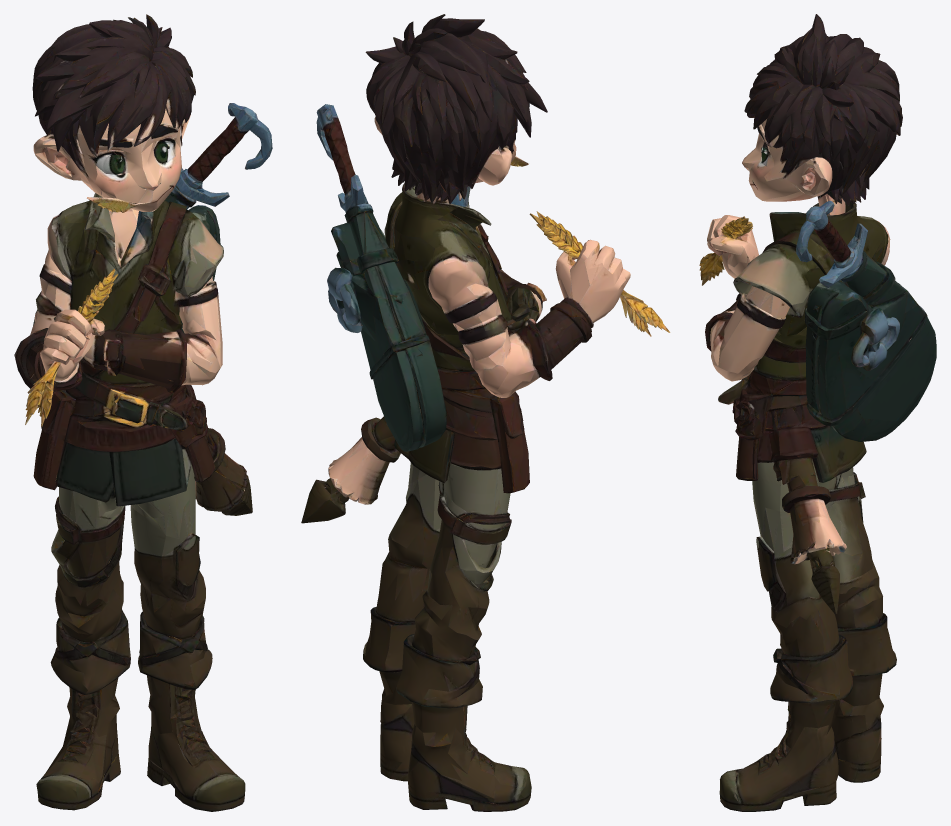
The model's file is jet2.glb.
3 views of the same model, side by side, from view 1: azimuth 30°, elevation 25°; view 2: azimuth 150°, elevation 25°; view 3: azimuth 270°, elevation 25° (orthographic). The views are drawn at different scales.
Bounding box in the file's own units: 0.7717 × 1.9 × 0.5489.
Materials: 1 (1 with a texture image).
